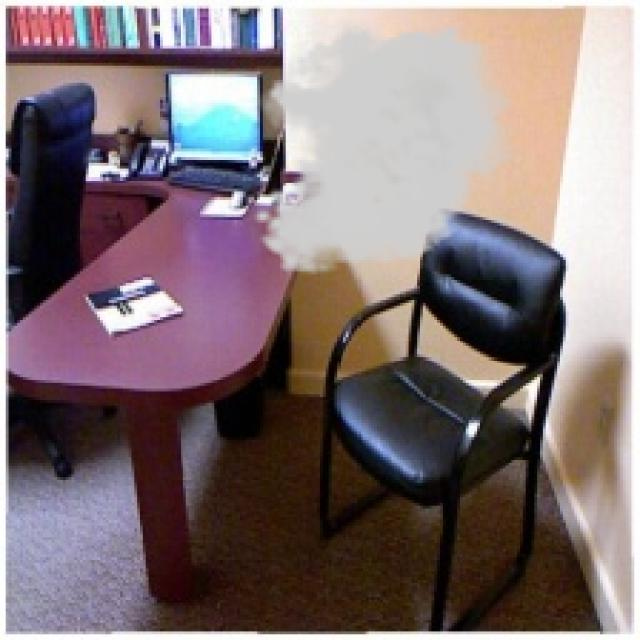smoke: (251, 9, 526, 277)
